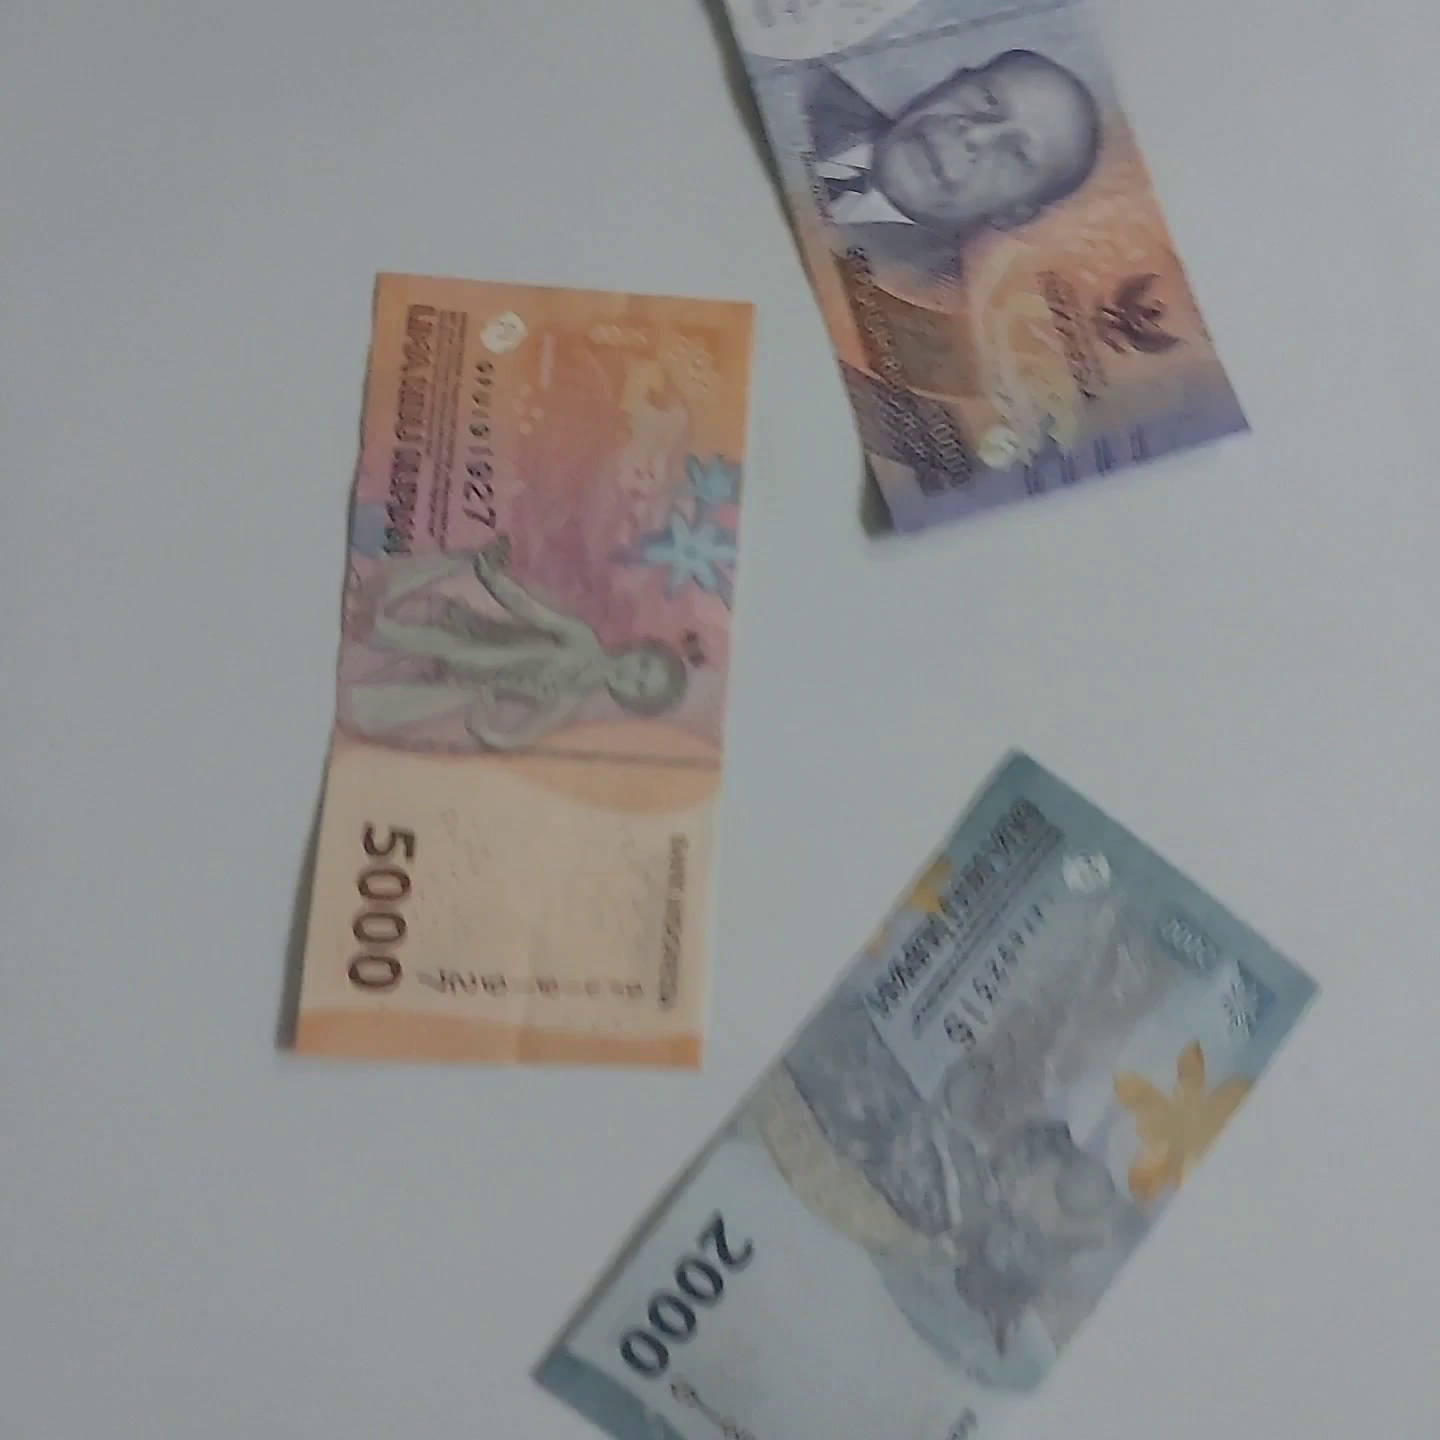10k: (711, 0, 1337, 560)
2k: (522, 754, 1406, 1440)
5k: (287, 232, 750, 1091)
